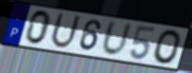0: (24, 10, 55, 46)
5: (129, 25, 158, 62)
6: (78, 19, 102, 53)
O: (152, 29, 183, 66)
U: (48, 11, 83, 51), (100, 18, 134, 58)
